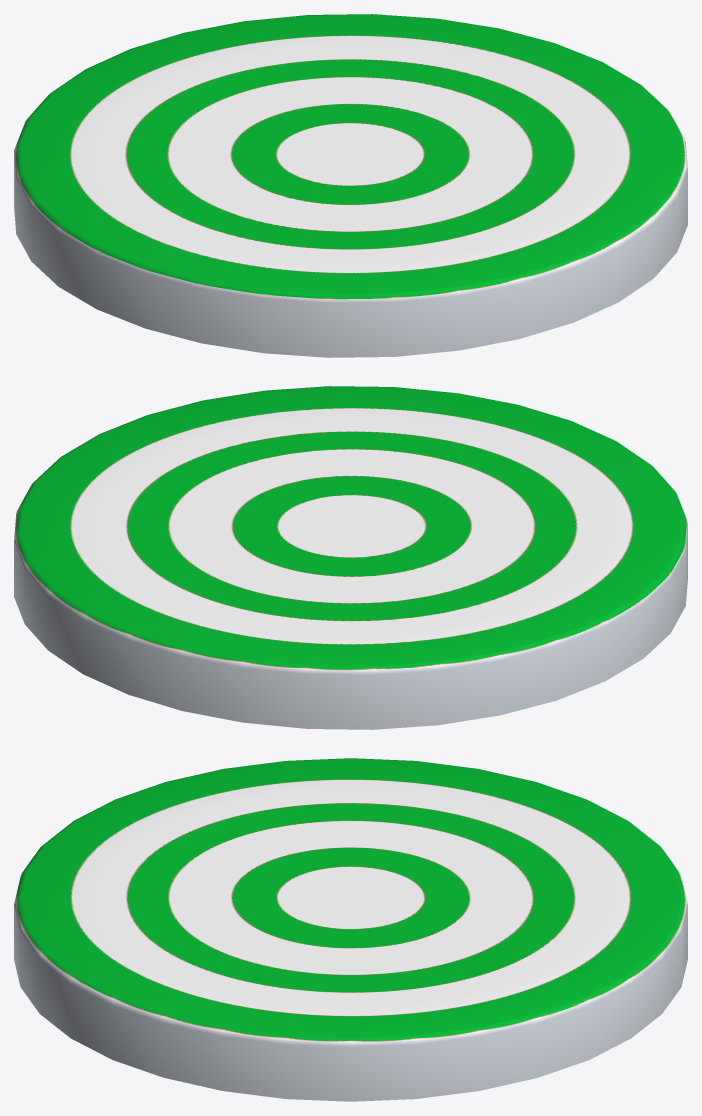
The model's file is launch.glb.
3 renders of one model, top to bottom at view 1: azimuth 30°, elevation 25°; view 2: azimuth 150°, elevation 25°; view 3: azimuth 270°, elevation 25°, orthographic.
Visible parts, largest first — view 1: Lauch; view 2: Lauch; view 3: Lauch.
Boxes of the visible parts, <box> form: Lauch: <box>14,14,687,357</box>; Lauch: <box>14,386,687,729</box>; Lauch: <box>14,758,687,1101</box>.
Size of the model in its own units: 1.96 by 0.196 by 1.96.
2 materials, 1 textured.
